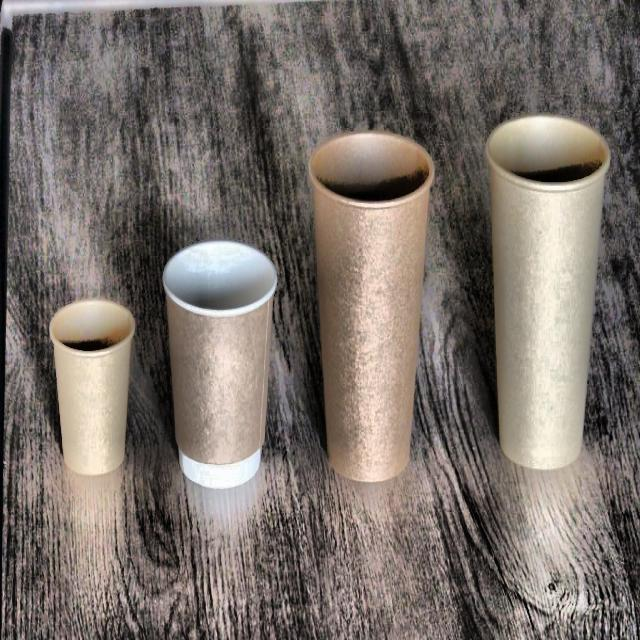Cup: (300, 126, 439, 492), (482, 105, 619, 474), (157, 230, 281, 492), (41, 292, 136, 485)
